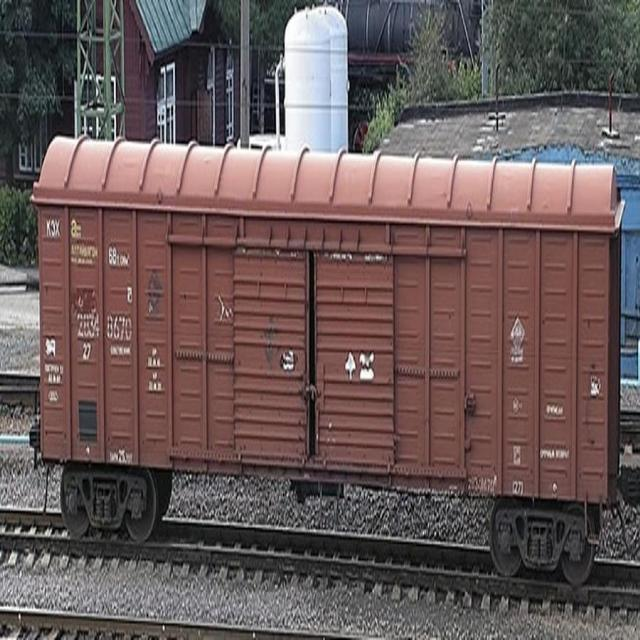boxcar: (20, 121, 625, 592)
